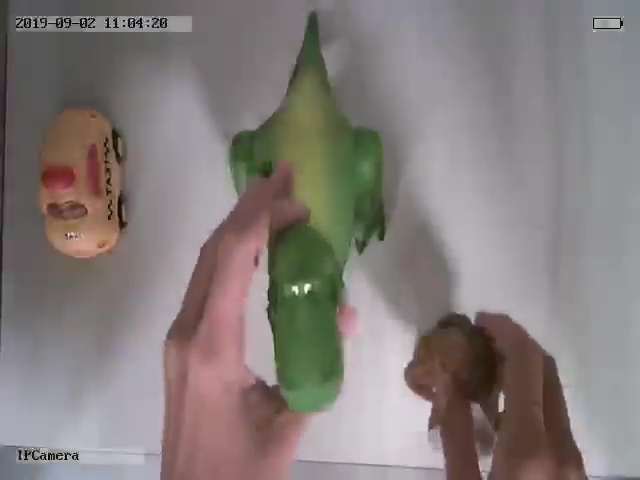car: (34, 106, 129, 260)
